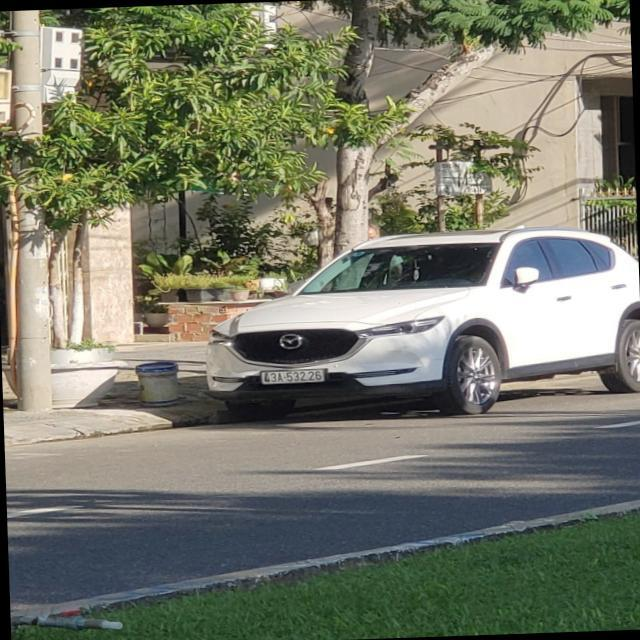car: (198, 229, 637, 458)
plate: (254, 361, 331, 392)
